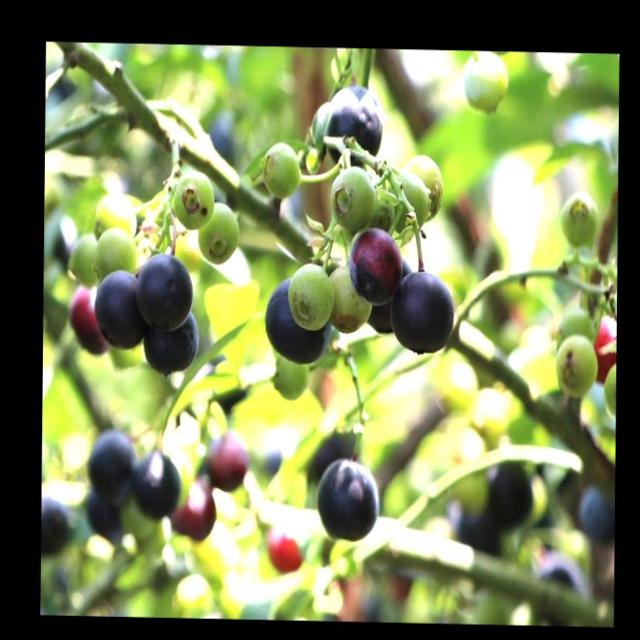blueberry: (261, 270, 333, 362), (311, 455, 380, 546), (390, 266, 458, 356), (326, 82, 383, 164), (136, 250, 195, 328), (347, 223, 402, 306), (140, 303, 199, 374), (94, 266, 142, 352), (86, 427, 137, 498), (133, 445, 178, 514)
blueberry-halfripe: (167, 476, 214, 544), (66, 284, 104, 356), (206, 426, 246, 490)
blueberry-unripe: (328, 163, 373, 226), (462, 54, 509, 114), (554, 333, 597, 397), (290, 264, 332, 328), (199, 200, 241, 264), (329, 264, 368, 332), (172, 168, 214, 230), (557, 188, 599, 246), (403, 154, 443, 214), (260, 140, 300, 198), (92, 190, 136, 240), (388, 170, 425, 224), (97, 227, 132, 276), (68, 232, 99, 285)
